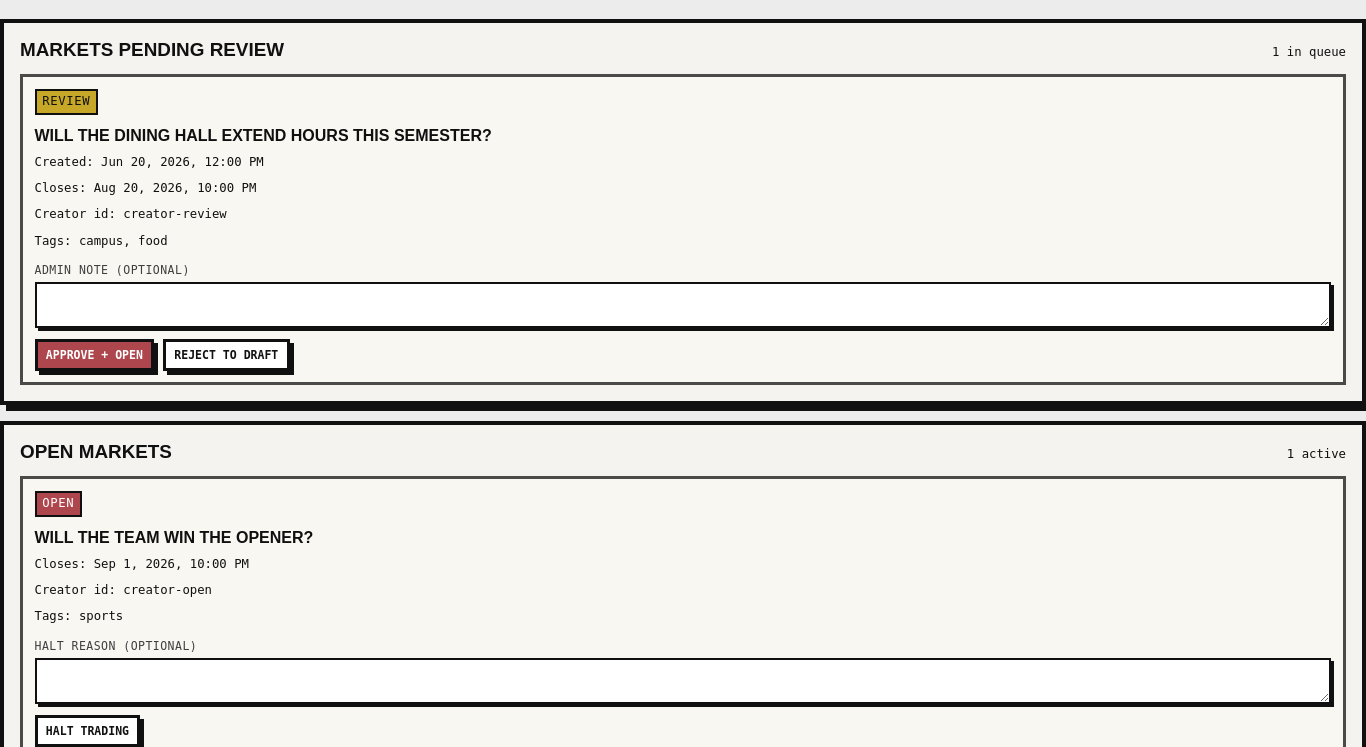
Scenario: AdminReviewQueue › shows API errors and can halt an open market with a reason
Click the button "Reject to draft". click: {"x": 226, "y": 355}
box: [163,339,290,371]
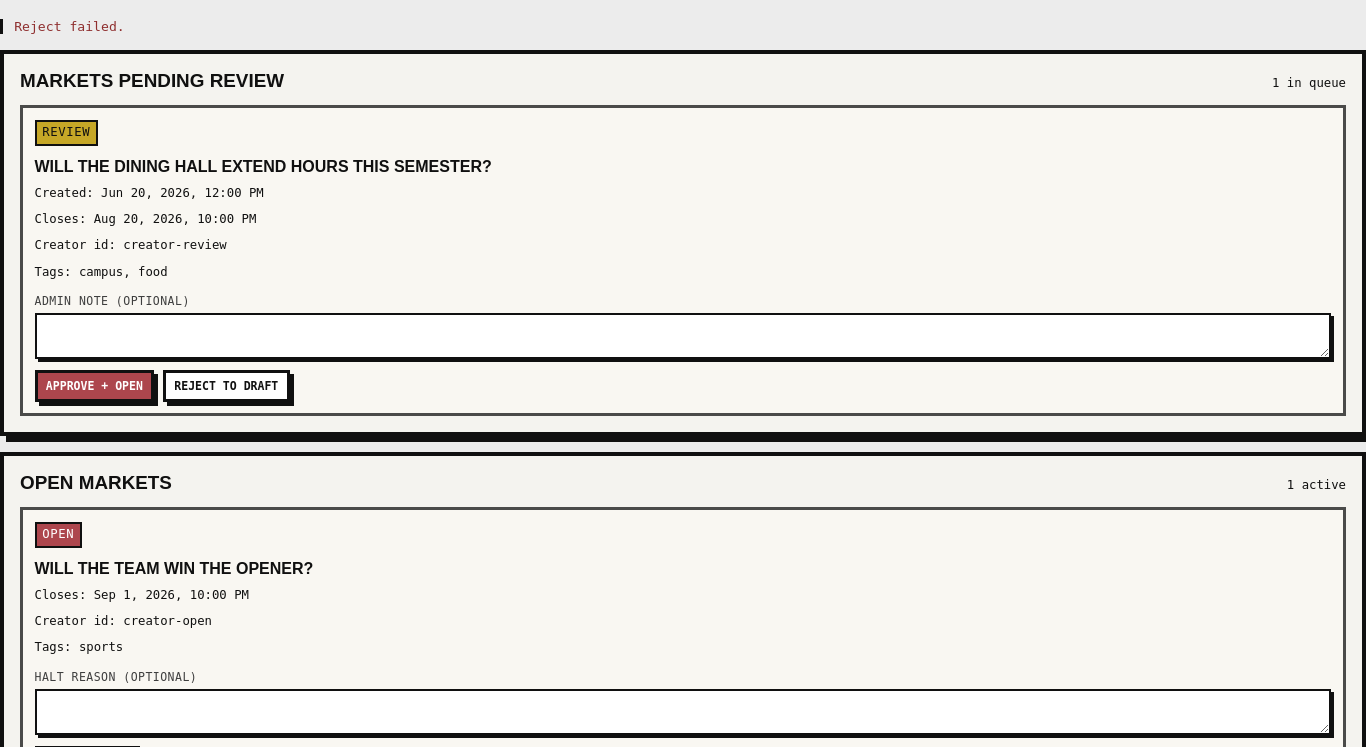
Now the text "Reject failed." is shown, box [0,19,1365,34]
Type "bad source" into the text box labelled "Halt reason (optional)". click: {"x": 683, "y": 712}
box: [34,689,1332,735]
(page scrolled)
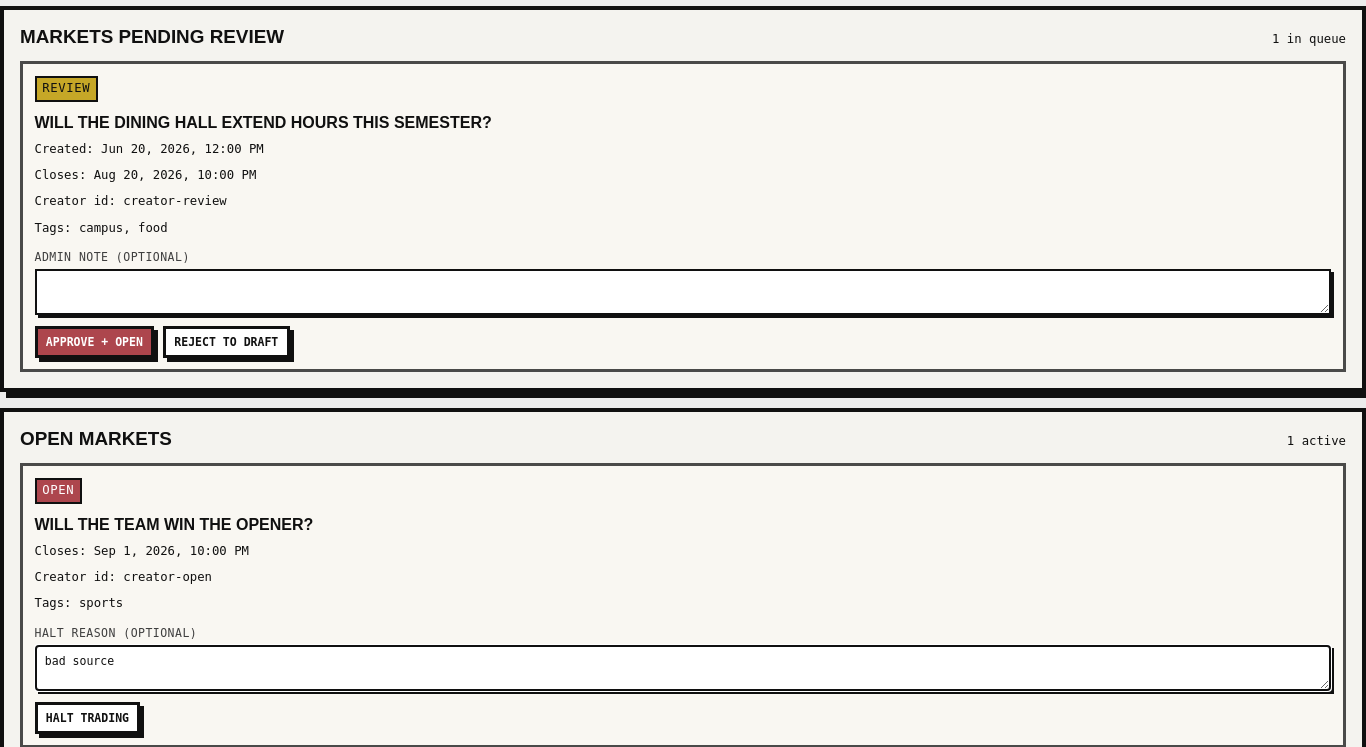
Click the button "Halt trading". click: {"x": 87, "y": 718}
box: [34,702,140,734]
(page scrolled)
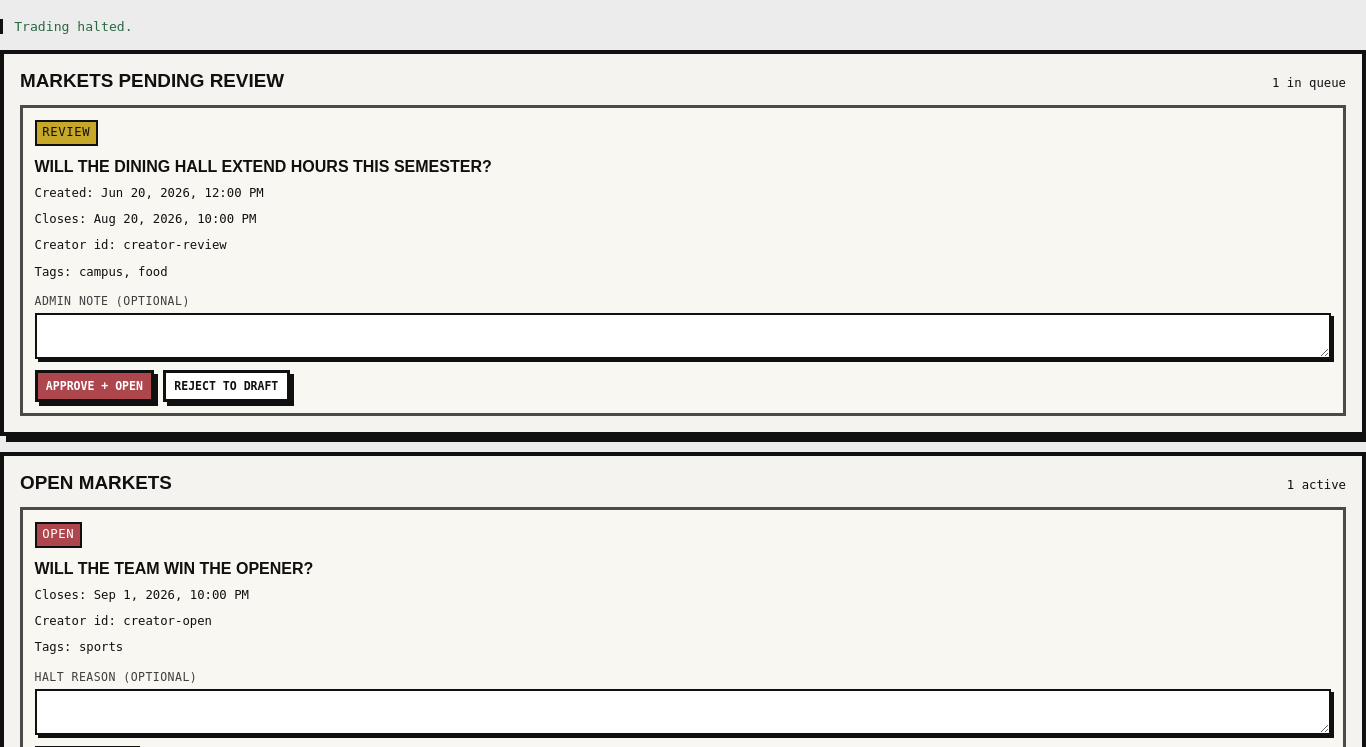
Now the text "Trading halted." is shown, box [0,19,1365,34]
